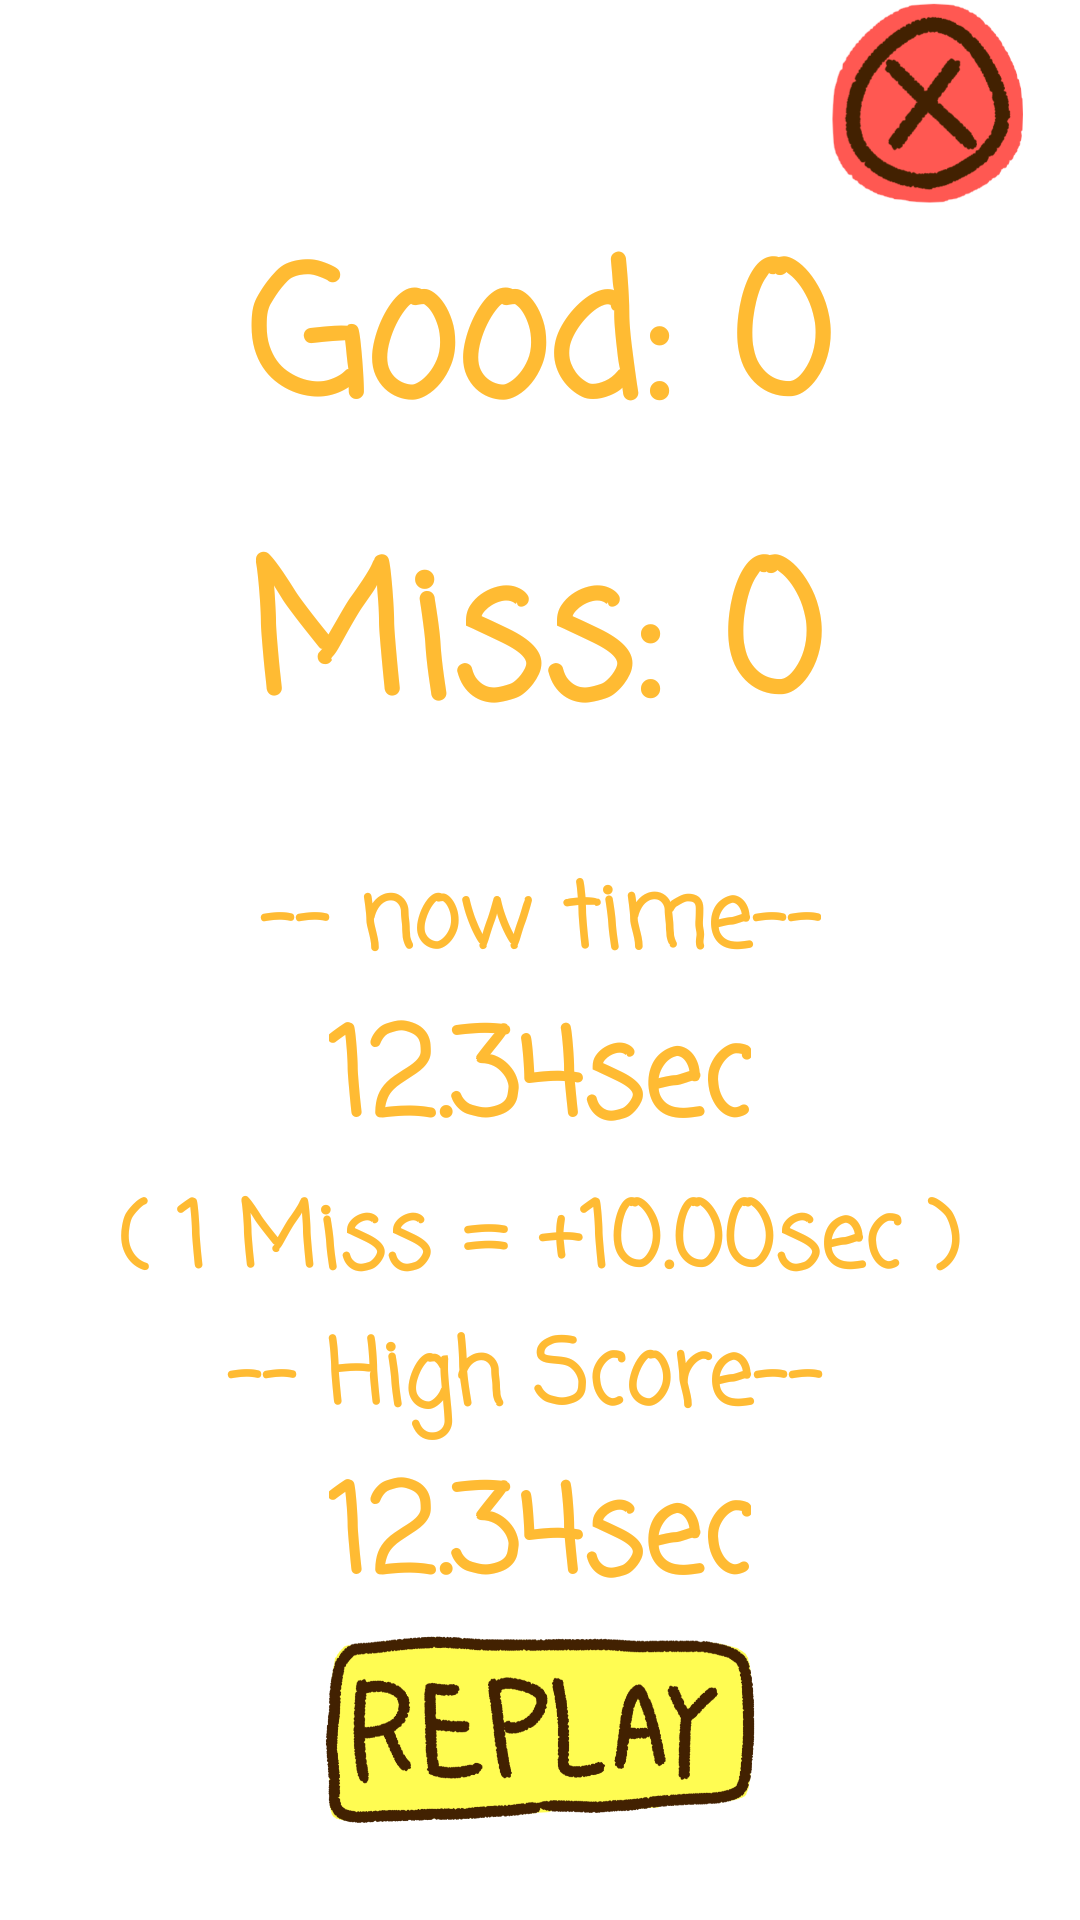

Where icons sit on this 1080px x 1920px app screen, as {"left": x1, "top": y1, "right": x2, "bottom": y2}:
batsu: {"left": 832, "top": 4, "right": 1023, "bottom": 203}
